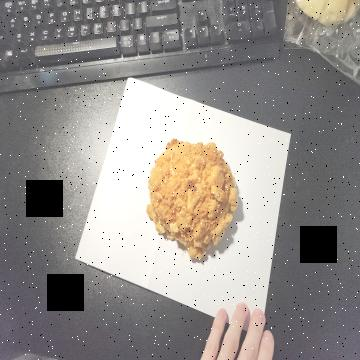soboru_bread: (145, 138, 238, 267)
